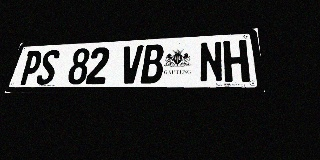2: (85, 47, 110, 84)
8: (66, 48, 92, 84)
B: (140, 44, 164, 83)
H: (223, 40, 250, 82)
N: (199, 41, 224, 83)
P: (18, 50, 44, 85)
S: (35, 49, 61, 85)
V: (119, 45, 143, 84)
